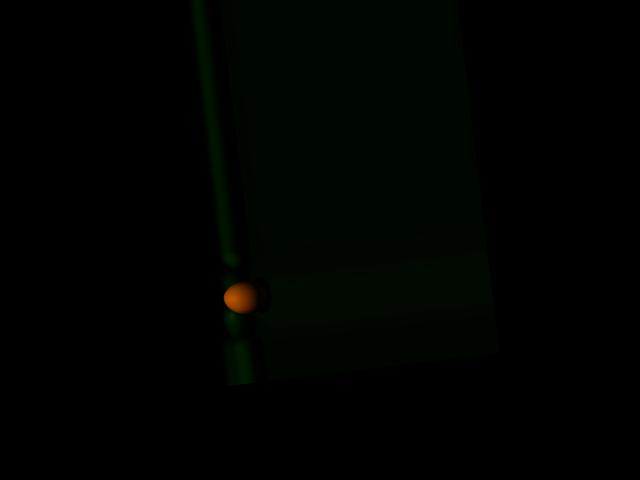egg: (222, 278, 269, 316)
